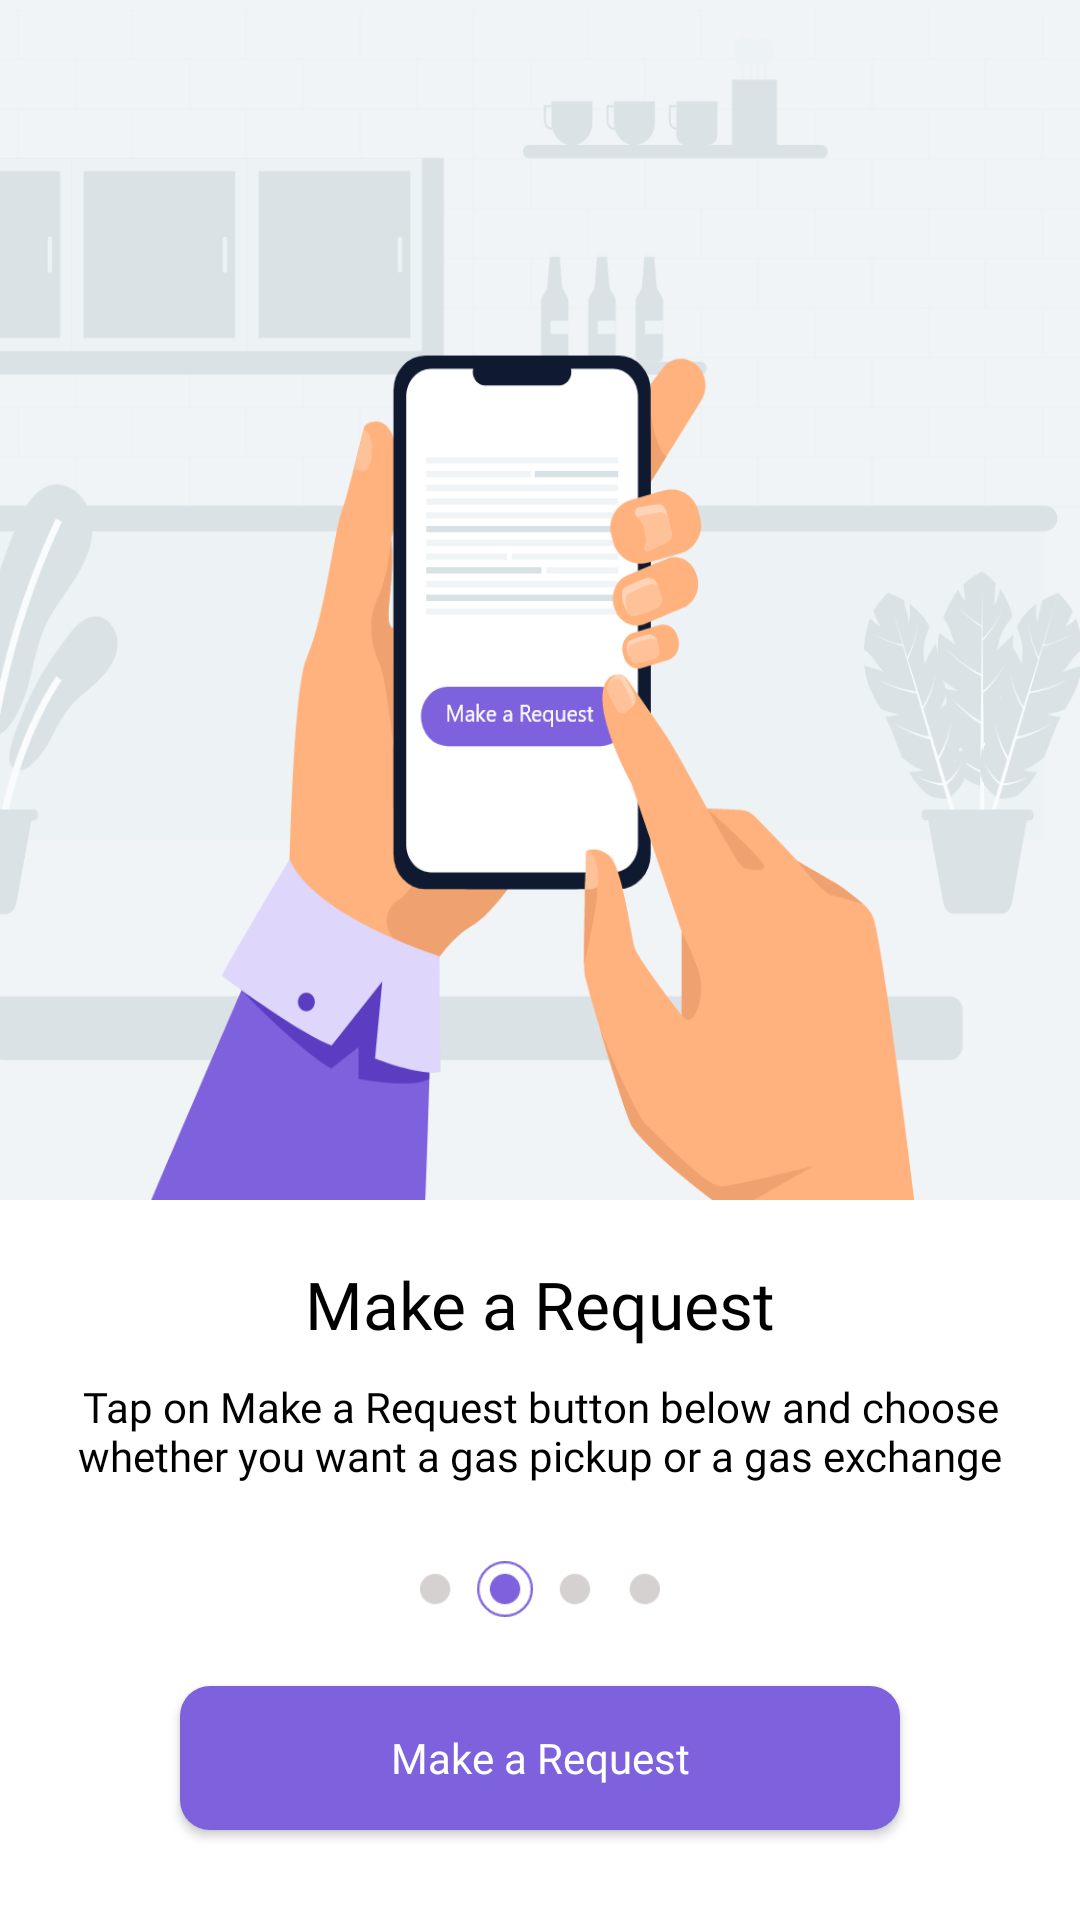

Icons on this 1080px x 1920px Android screen, each with its box as detection(x1, y1, x2, y2):
dot: detection(420, 1561, 660, 1617)
